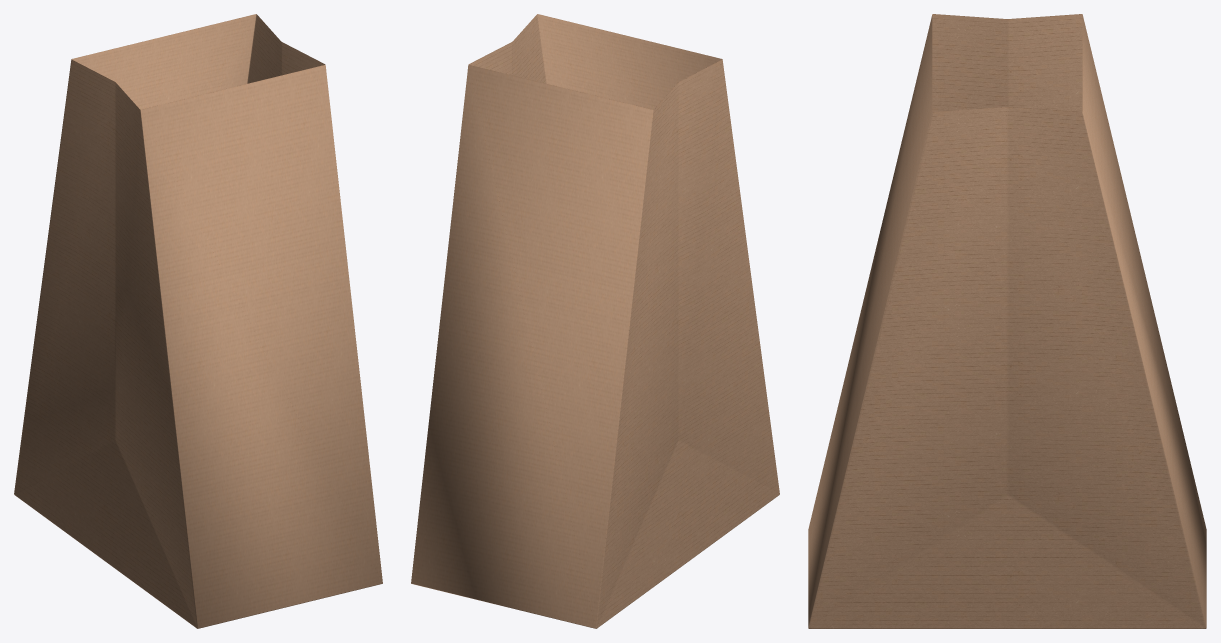
Rendered from harvesting_bag.glb.
3 views of the same model, side by side, from view 1: azimuth 30°, elevation 25°; view 2: azimuth 150°, elevation 25°; view 3: azimuth 270°, elevation 25° (orthographic). The views are drawn at different scales.
Visible parts, largest first — view 1: CardBoard Bag.005; view 2: CardBoard Bag.005; view 3: CardBoard Bag.005.
Boxes of the visible parts, box(x1,y1,x2,y2) form: CardBoard Bag.005: box(14, 14, 382, 628); CardBoard Bag.005: box(411, 14, 779, 628); CardBoard Bag.005: box(808, 14, 1206, 628).
Bounding box in the file's own units: 0.00633 × 0.0156 × 0.0109.
Materials: 1 (1 with a texture image).
